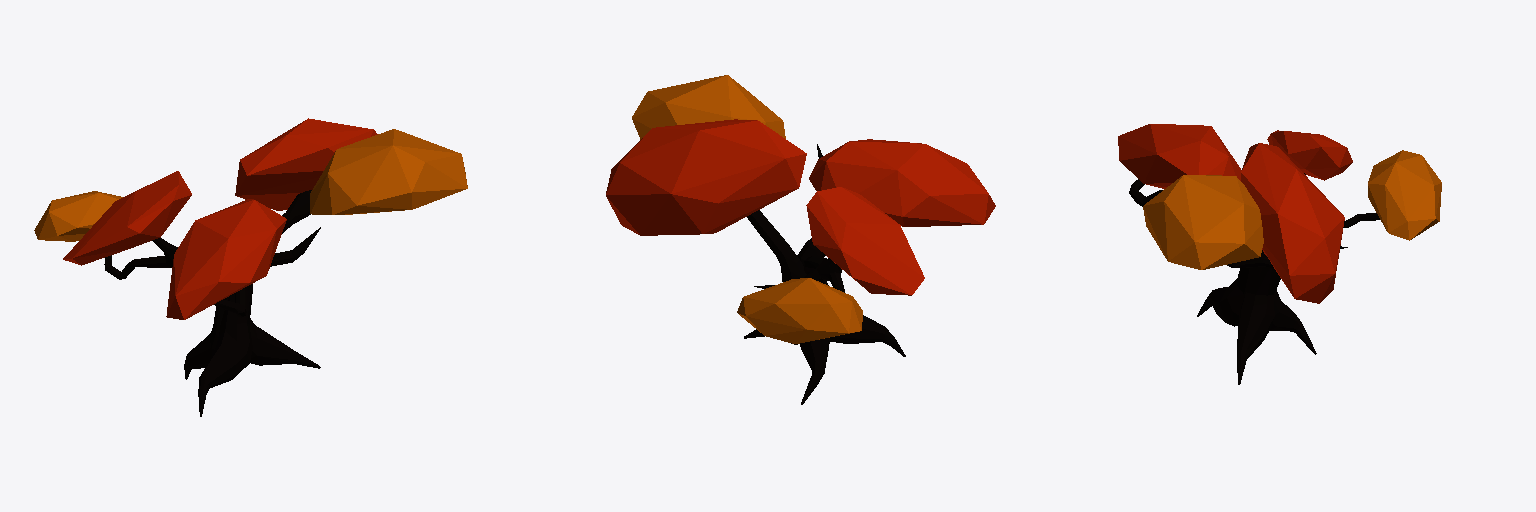
File: Tree_2_Autumn.obj
The picture shows the model from 3 angles: view 1: azimuth 30°, elevation 25°; view 2: azimuth 150°, elevation 25°; view 3: azimuth 270°, elevation 25°; orthographic projection.
Visible parts, largest first — view 1: Tree_2_Autumn_Mesh.003; view 2: Tree_2_Autumn_Mesh.003; view 3: Tree_2_Autumn_Mesh.003.
Boxes of the visible parts, x1=… form: Tree_2_Autumn_Mesh.003: x1=34, y1=118, x2=467, y2=416; Tree_2_Autumn_Mesh.003: x1=606, y1=75, x2=995, y2=404; Tree_2_Autumn_Mesh.003: x1=1118, y1=124, x2=1441, y2=384.
Size of the model in its own units: 9.54 by 6.64 by 7.85.